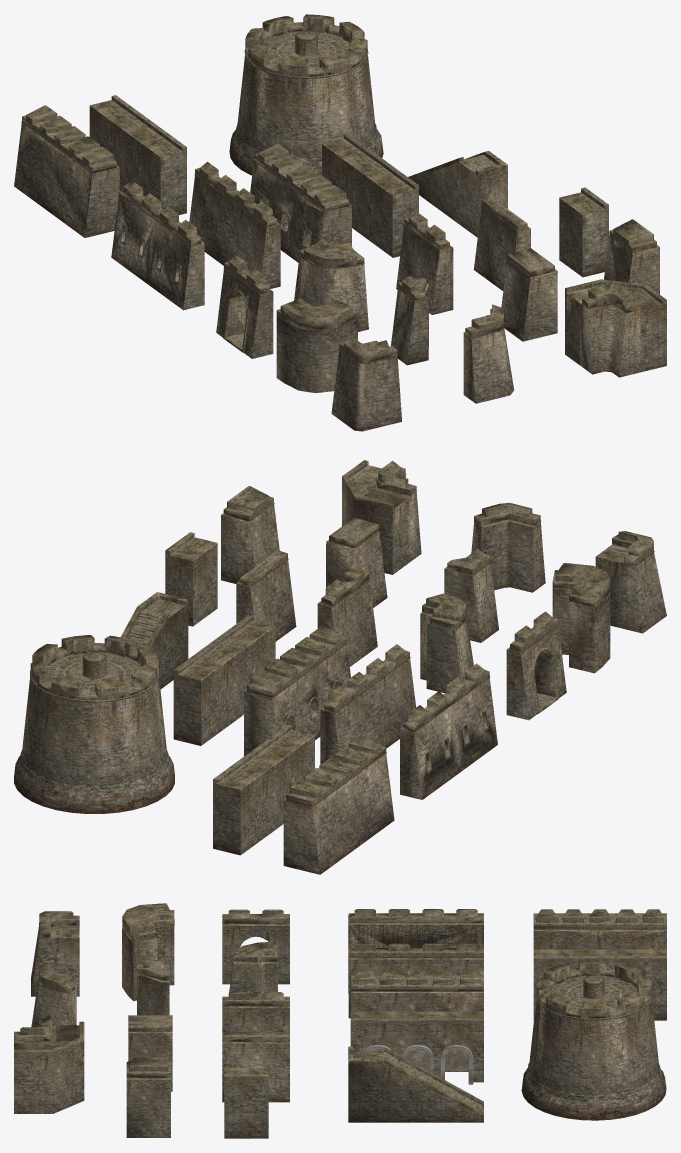
File: modular_fort_01.glb
The picture shows the model from 3 angles, top to bottom: view 1: azimuth 30°, elevation 25°; view 2: azimuth 150°, elevation 25°; view 3: azimuth 270°, elevation 25°; orthographic projection. The views are drawn at different scales.
Visible parts, largest first — view 1: modular_fort_01_wall_thick_corner_02; view 2: modular_fort_01_wall_thick_corner_02; view 3: modular_fort_01_wall_thick_corner_02, modular_fort_01_wall_walkway_straight_01.
Boxes of the visible parts, x1=… form: modular_fort_01_wall_thick_corner_02: x1=14, y1=14, x2=666, y2=431; modular_fort_01_wall_thick_corner_02: x1=14, y1=460, x2=666, y2=874; modular_fort_01_wall_thick_corner_02: x1=14, y1=903, x2=666, y2=1138; modular_fort_01_wall_walkway_straight_01: x1=365, y1=1045, x2=473, y2=1084.
Bounding box in the file's own units: 42.67 × 13.67 × 71.38.
Materials: 3 (3 with a texture image).
